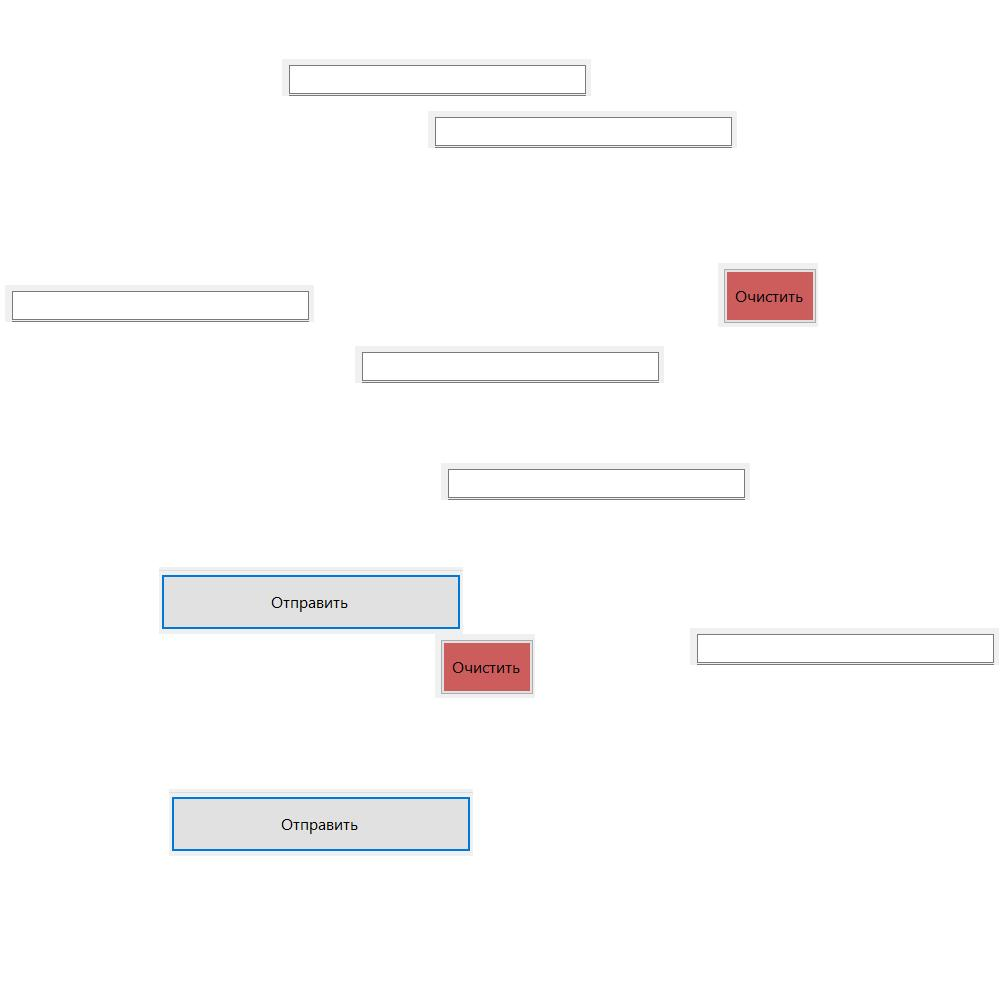Button: (169, 789, 473, 856), (159, 567, 463, 634), (718, 263, 818, 327), (435, 634, 535, 698)
EditText-: (428, 111, 737, 148), (441, 463, 750, 500), (5, 285, 314, 322), (355, 346, 664, 383), (690, 628, 999, 665), (282, 59, 591, 96)
